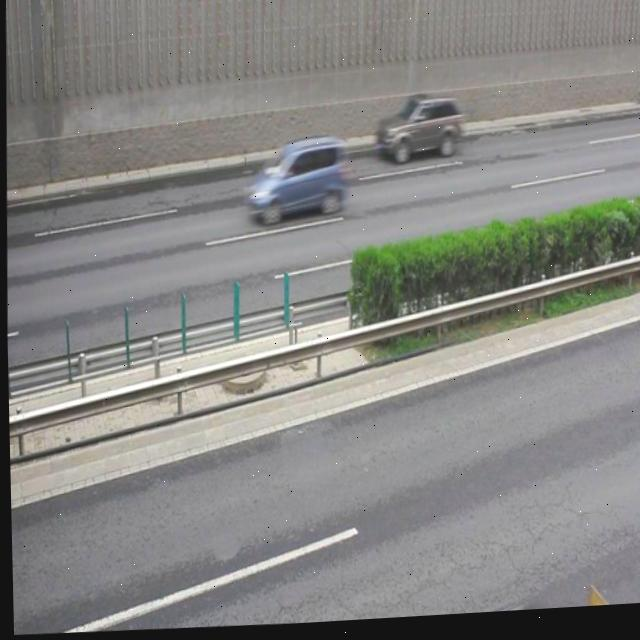car: (245, 135, 344, 228), (376, 95, 462, 168)
